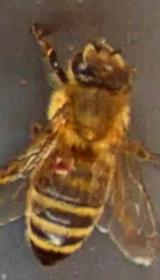varroa_mite: (37, 144, 90, 192)
